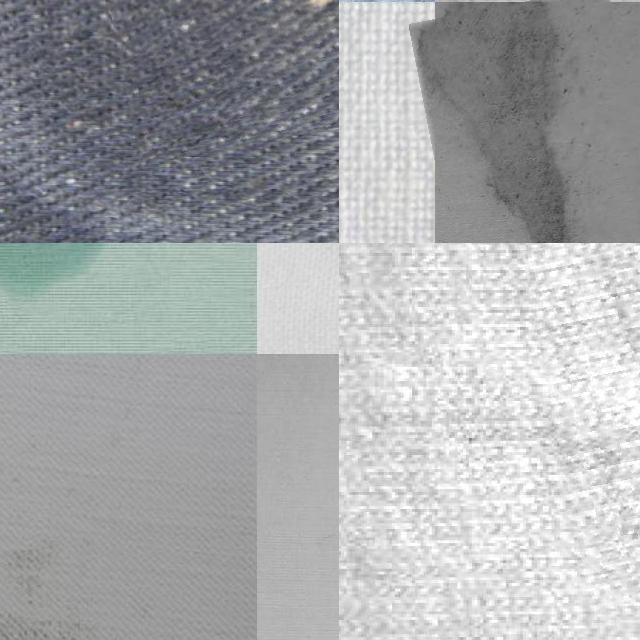Thread_other: (408, 0, 611, 243), (0, 484, 206, 640), (0, 243, 135, 305)
stains: (85, 0, 339, 153), (537, 243, 640, 602)
